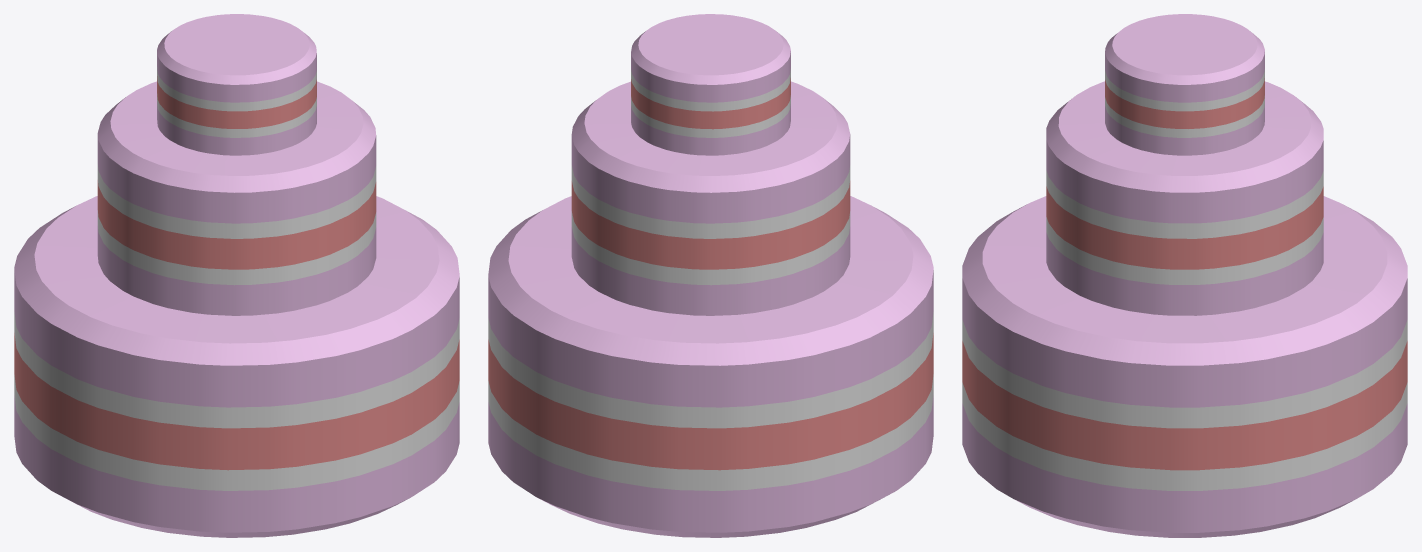
The model's file is Cake.fbx.
The picture shows the model from 3 angles, left to right: view 1: azimuth 30°, elevation 25°; view 2: azimuth 150°, elevation 25°; view 3: azimuth 270°, elevation 25°; orthographic projection.
Parts seen in each view (by area): view 1: Cake; view 2: Cake; view 3: Cake.
Boxes of the visible parts, x1,y1,x2,y2 form: Cake: (14,14,459,537); Cake: (488,14,933,537); Cake: (962,14,1407,537).
Size of the model in its own units: 100 by 101 by 100.
